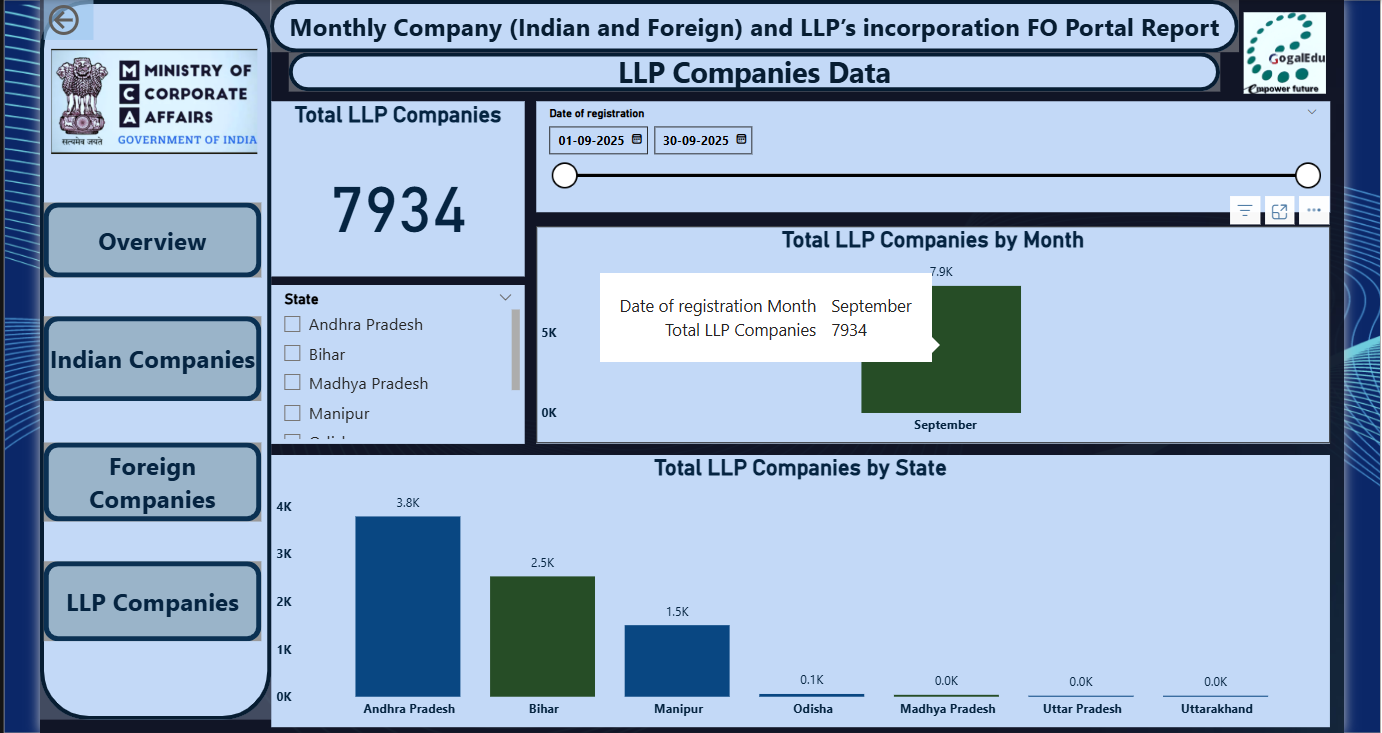

This screenshot's page, from the dashboard's own definition file:
{"tool":"powerbi","page":{"name":"LLP Companies","canvas":[1280,720],"ordinal":2},"visuals":[{"type":"actionButton","box":[11.2,12.4,48.5,38.6],"z":0},{"type":"card","title":"Total LLP Companies","fields":{"Values":["LLP Companies.Total LLP Companies"]},"box":[227,89.6,249.1,181.6],"z":1000},{"type":"slicer","fields":{"Values":["LLP Companies.State"]},"box":[228.2,274.8,249.1,155.8],"z":2000},{"type":"columnChart","fields":{"Category":["LLP Companies.State"],"Y":["LLP Companies.Total LLP Companies"]},"box":[227,444.2,1039.3,269.9],"z":3000},{"type":"slicer","fields":{"Values":["LLP Companies. Date of registration"]},"box":[487.1,89.6,779.1,117.8],"z":4000},{"type":"columnChart","fields":{"Y":["LLP Companies.Total LLP Companies"],"Category":["LLP Companies. Date of registration.Variation.Date Hierarchy.Month"]},"box":[487.1,216,779.1,219.6],"z":5000},{"type":"shape","box":[0,0,227,706.8],"z":6000},{"type":"image","box":[6.1,0,212.3,198.8],"z":7000},{"type":"actionButton","box":[3.7,198.8,213.5,73.6],"z":8000},{"type":"actionButton","box":[3.7,310.4,213.5,83.4],"z":9000},{"type":"actionButton","box":[3.7,434.4,213.5,77.3],"z":10000},{"type":"actionButton","box":[3.7,550.9,213.5,78.5],"z":11000},{"type":"shape","box":[225.8,0,950.9,51.5],"z":12000},{"type":"shape","box":[244.2,51.5,914.1,38],"z":13000},{"type":"image","box":[1176.7,0,90.8,104.3],"z":14000},{"type":"actionButton","box":[3.7,0,49.1,39.3],"z":15000}]}

Visuals, with their boxes in screenshot pixels (x1, y1, x2, y2):
actionButton: [51, 12, 100, 51]
"Total LLP Companies" card: [268, 90, 518, 273]
slicer - LLP Companies.State: [269, 276, 520, 433]
columnChart - LLP Companies.State x LLP Companies.Total LLP Companies: [268, 447, 1313, 718]
slicer - LLP Companies. Date of registration: [529, 90, 1313, 209]
columnChart - LLP Companies.Total LLP Companies x LLP Companies. Date of registration.Variation.Date Hierarchy.Month: [529, 217, 1313, 438]
shape: [40, 0, 268, 711]
image: [46, 0, 259, 200]
actionButton: [43, 200, 258, 274]
actionButton: [43, 312, 258, 396]
actionButton: [43, 437, 258, 515]
actionButton: [43, 554, 258, 633]
shape: [267, 0, 1223, 52]
shape: [285, 52, 1204, 90]
image: [1223, 0, 1314, 105]
actionButton: [43, 0, 93, 40]
